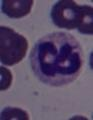N: (30, 31, 84, 88)
